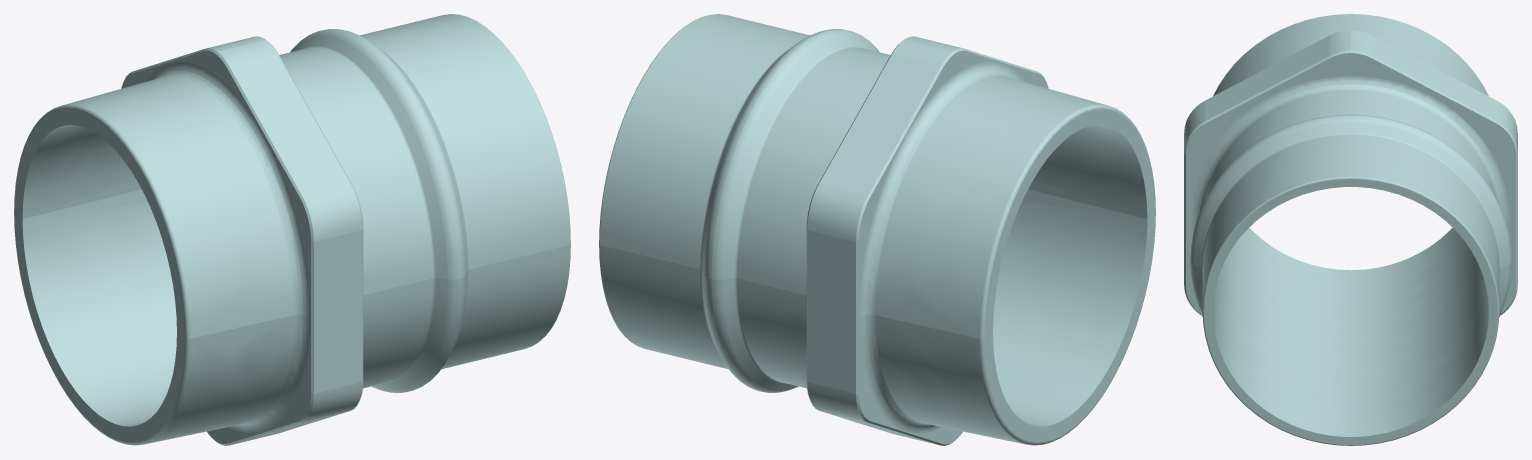
3 renders of one model, left to right at view 1: azimuth 30°, elevation 25°; view 2: azimuth 150°, elevation 25°; view 3: azimuth 270°, elevation 25°, orthographic. The views are drawn at different scales.
Bounding box in the file's own units: 112 × 108 × 97.02.
